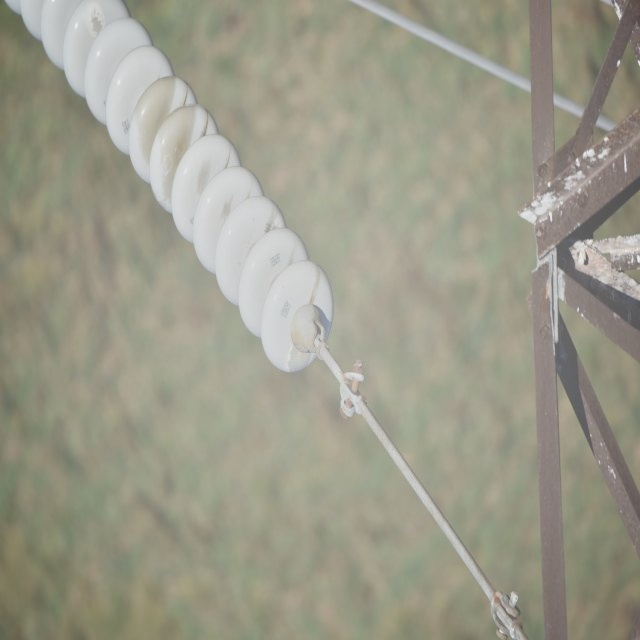insulator: (7, 0, 335, 368)
